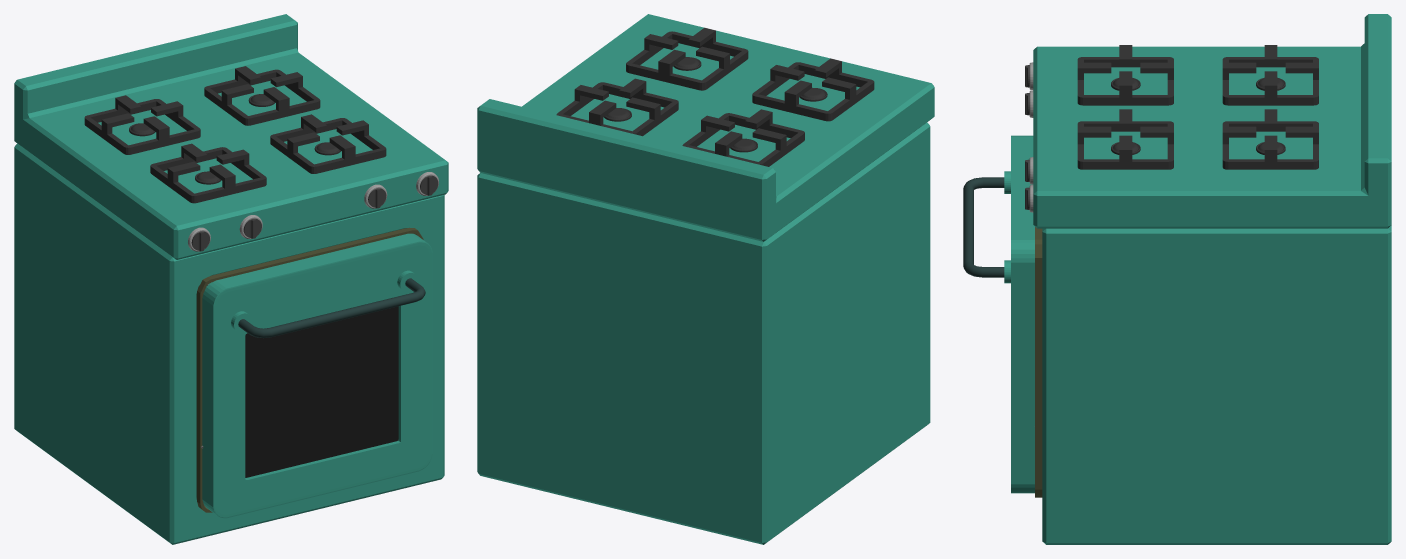
File: Stove.fbx
The picture shows the model from 3 angles, left to right: view 1: azimuth 30°, elevation 25°; view 2: azimuth 150°, elevation 25°; view 3: azimuth 270°, elevation 25°; orthographic projection. The views are drawn at different scales.
Visible parts, largest first — view 1: Stove, Oven_door, Stovetop, Burner_grate.002, Burner_grate.003, Burner_grate, Burner_grate.001, Oven_cavity; view 2: Stove, Stovetop, Burner_grate.002, Burner_grate, Burner_grate.001, Burner_grate.003; view 3: Stove, Stovetop, Oven_door, Burner_grate, Burner_grate.002, Burner_grate.001, Burner_grate.003, Oven_cavity.
Part boxes in pixels (x1,y1,x2,y2): Stove: [14, 143, 444, 544]; Oven_door: [202, 233, 432, 518]; Stovetop: [14, 14, 448, 259]; Burner_grate.002: [150, 143, 266, 203]; Burner_grate.003: [84, 95, 200, 154]; Burner_grate: [270, 114, 386, 173]; Burner_grate.001: [204, 66, 320, 125]; Oven_cavity: [196, 227, 423, 512]; Stove: [477, 122, 930, 544]; Stovetop: [477, 14, 934, 241]; Burner_grate.002: [752, 58, 874, 121]; Burner_grate: [626, 27, 748, 90]; Burner_grate.001: [556, 78, 678, 136]; Burner_grate.003: [682, 109, 804, 166]; Stove: [1042, 225, 1391, 544]; Stovetop: [1033, 14, 1391, 228]; Oven_door: [963, 135, 1034, 493]; Burner_grate: [1077, 109, 1173, 169]; Burner_grate.002: [1077, 45, 1173, 105]; Burner_grate.001: [1222, 109, 1318, 169]; Burner_grate.003: [1222, 45, 1318, 105]; Oven_cavity: [1035, 227, 1042, 497].
Size of the model in its own units: 0.4593 by 0.5611 by 0.5634.
